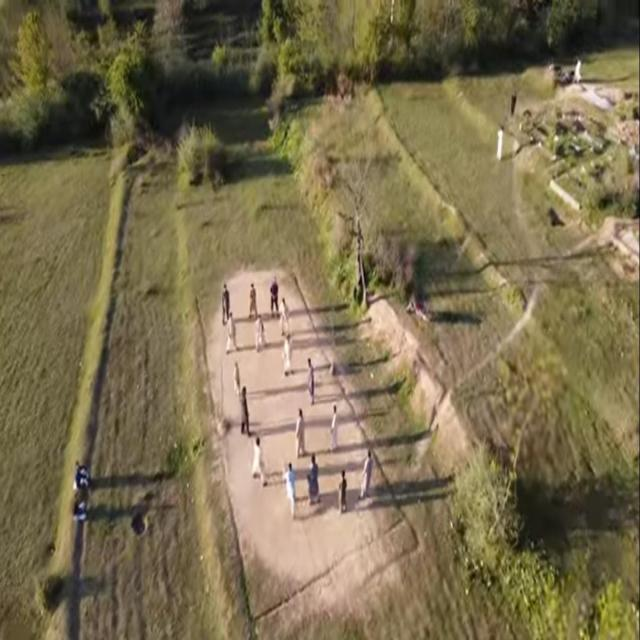humans: (281, 459, 300, 520), (359, 443, 376, 503), (307, 455, 323, 515), (325, 399, 342, 452), (250, 432, 266, 488), (303, 353, 318, 408), (335, 466, 350, 516), (239, 380, 251, 439), (222, 308, 238, 352), (73, 460, 93, 495), (279, 292, 294, 336), (254, 310, 267, 358), (268, 271, 281, 319), (294, 406, 306, 458), (69, 498, 90, 527), (282, 334, 294, 381), (247, 278, 258, 322), (496, 121, 504, 167), (222, 280, 229, 327), (511, 80, 518, 122), (233, 356, 240, 392)
